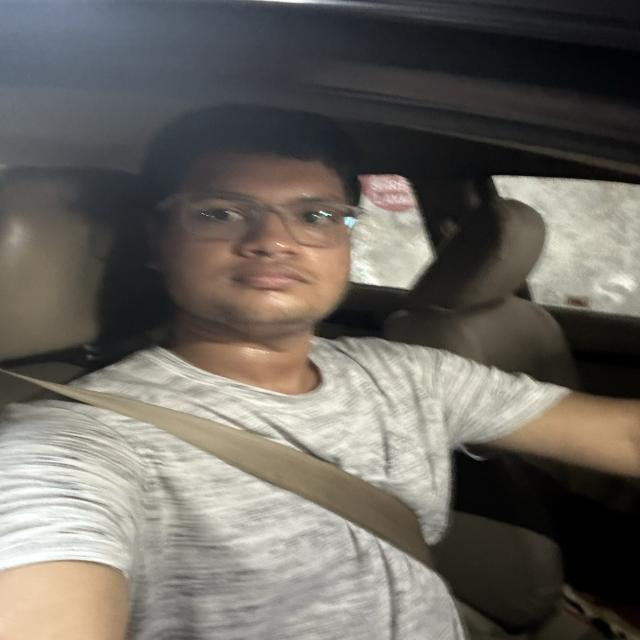seatbelt: (0, 342, 497, 590)
